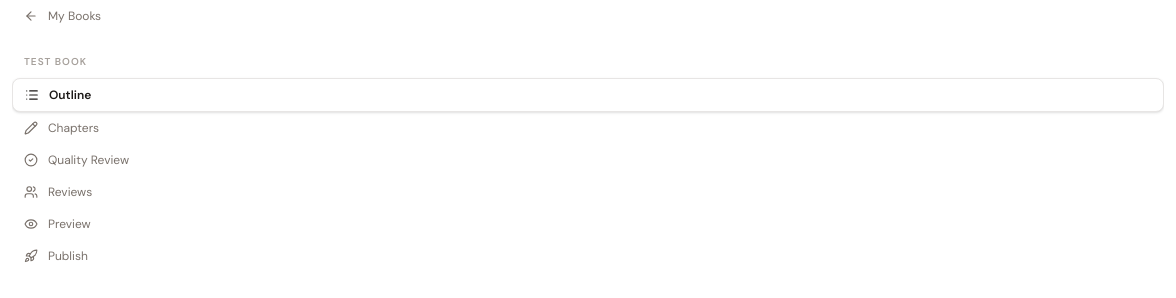
Test: SidebarNavBook › shows empty state when no chapters
The image size is (1176, 298).
Step 1. Click the button "Chapters" → click(74, 128), box [12,112,1164,144]
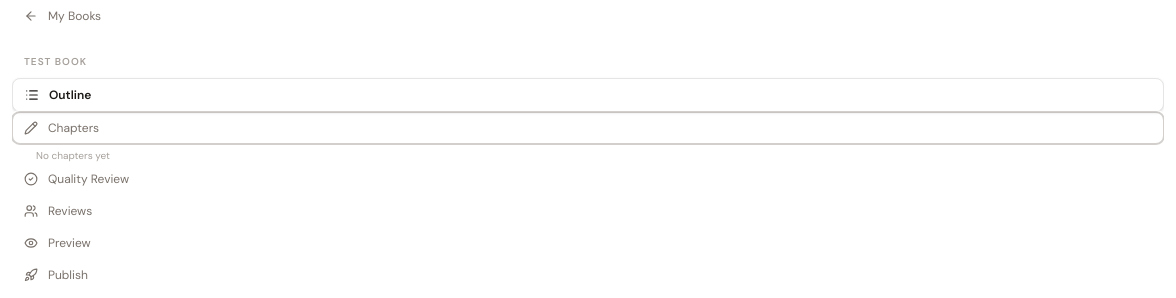
Check: the text "No chapters yet" is shown, box [36,149,110,162]
